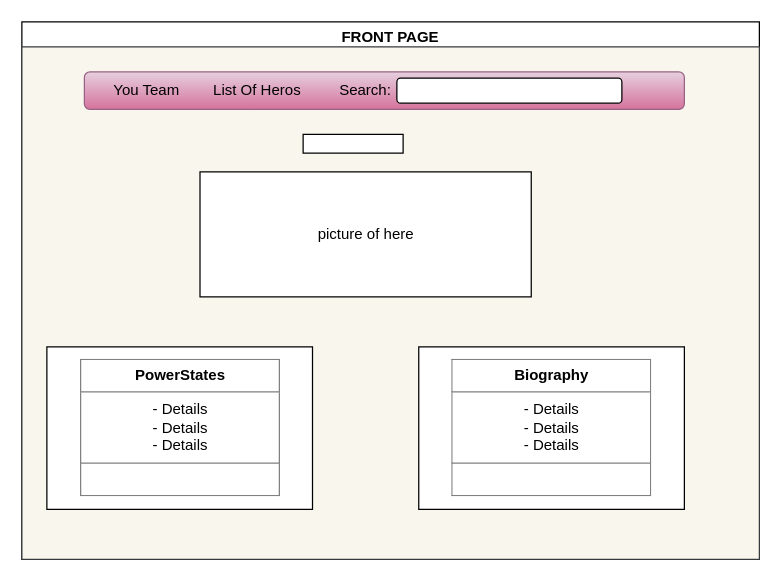
Image size: 781x581. Some labels were removed from this diagram. Each missing label, with the centre of its shape:
"name of hero" goes at point (352, 143).
"search here" goes at point (509, 90).
